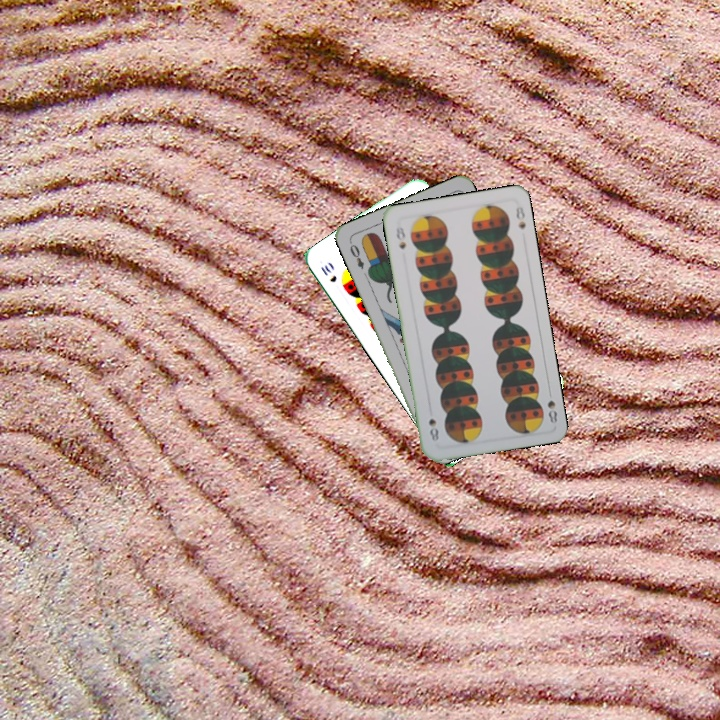EO: (345, 237, 367, 272)
S10: (316, 261, 339, 285)
S8: (543, 385, 560, 426), (392, 221, 409, 251)
